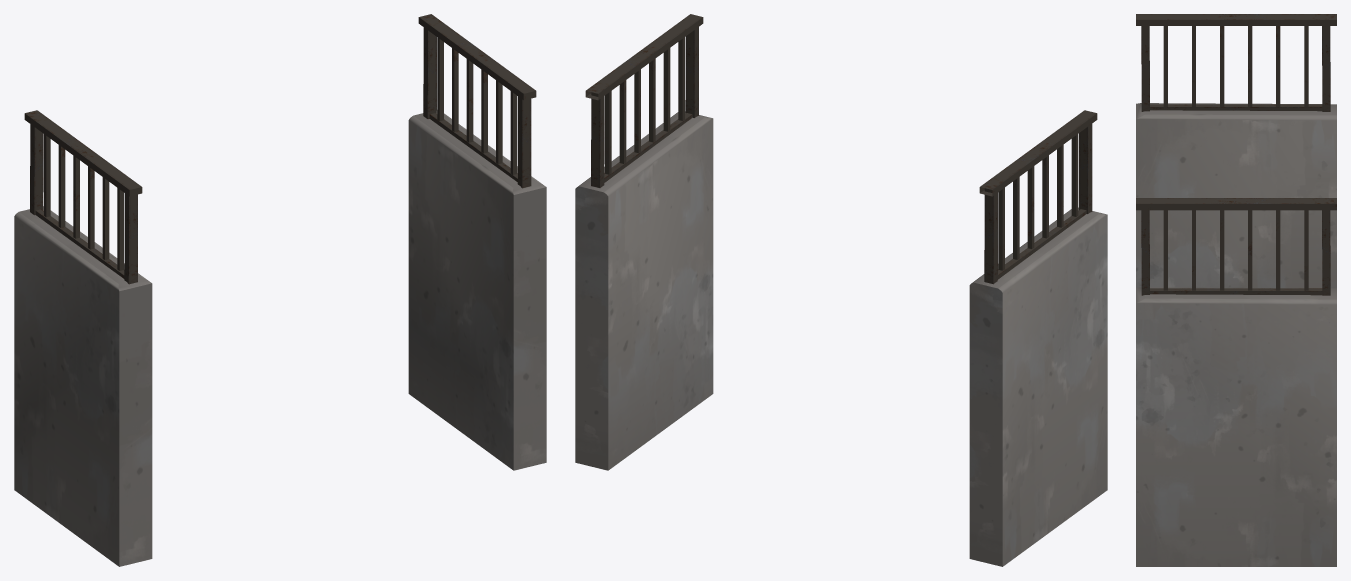
The model's file is Stairs_Rails_Concrete_Straight_1.gltf.
The picture shows the model from 3 angles, left to right: view 1: azimuth 30°, elevation 25°; view 2: azimuth 150°, elevation 25°; view 3: azimuth 270°, elevation 25°; orthographic projection. The views are drawn at different scales.
Visible parts, largest first — view 1: Stairs_Rails_Concrete_Straight_1; view 2: Stairs_Rails_Concrete_Straight_1; view 3: Stairs_Rails_Concrete_Straight_1.
Boxes of the visible parts, box(x1,y1,x2,y2) form: Stairs_Rails_Concrete_Straight_1: box(14, 14, 546, 566); Stairs_Rails_Concrete_Straight_1: box(575, 14, 1107, 566); Stairs_Rails_Concrete_Straight_1: box(1136, 14, 1336, 566).
Size of the model in its own units: 2.35 by 1.97 by 1.
2 materials, 2 textured.
